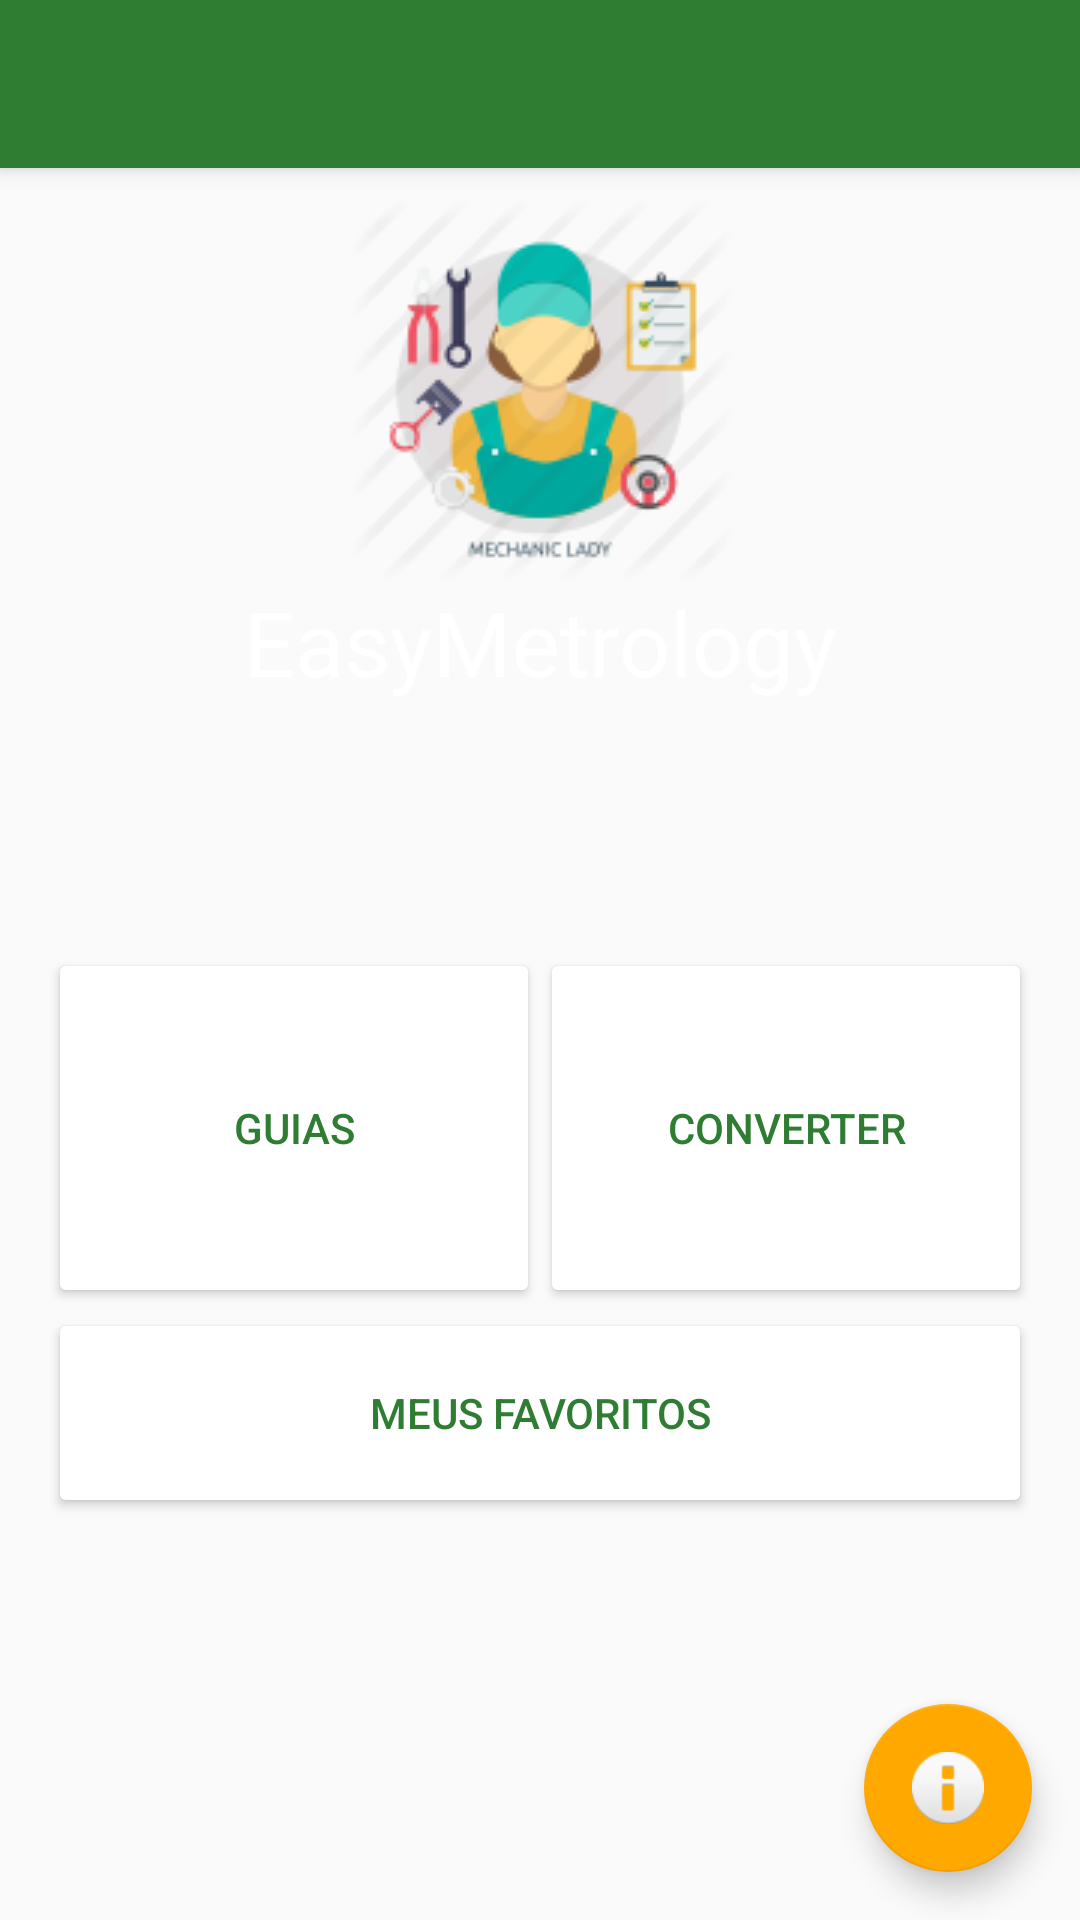

Where to tap for icons on this 1080 x 1920 app screen, as [x,y]:
info: [948,1788]
mechicon: [543,399]
